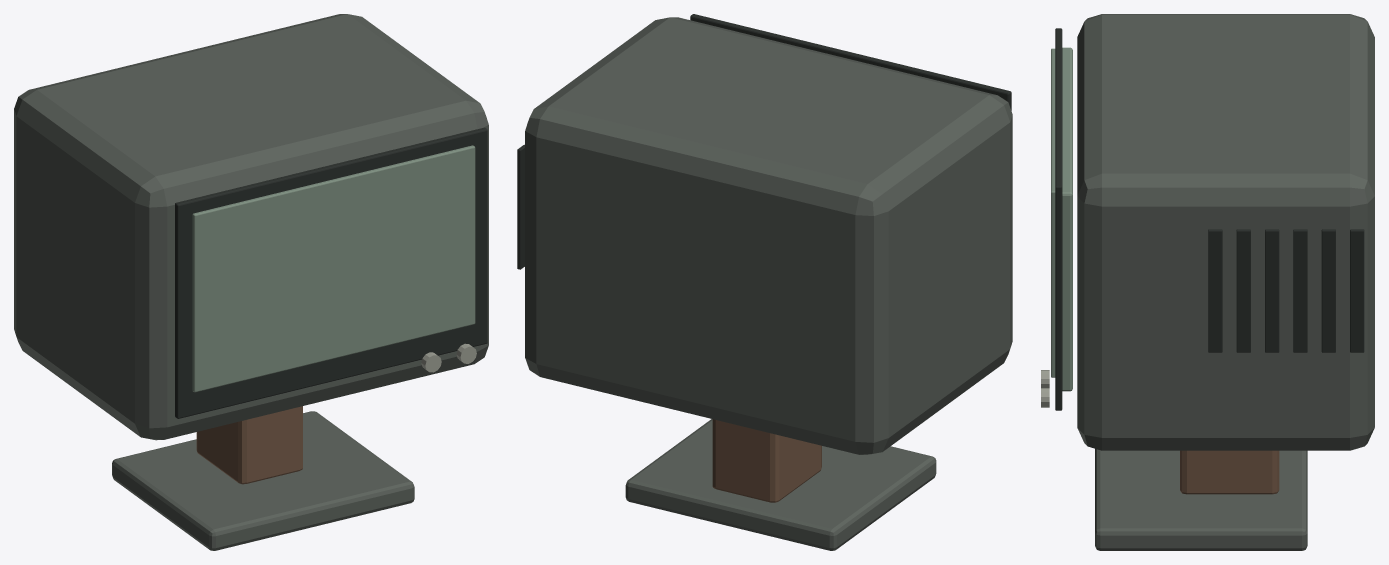
File: crt_monitor.glb
3 views of the same model, side by side, from view 1: azimuth 30°, elevation 25°; view 2: azimuth 150°, elevation 25°; view 3: azimuth 270°, elevation 25° (orthographic). The views are drawn at different scales.
Parts seen in each view (by area): view 1: crt_monitor; view 2: crt_monitor; view 3: crt_monitor.
Boxes of the visible parts, x1,y1,x2,y2 form: crt_monitor: [14, 14, 488, 550]; crt_monitor: [517, 14, 1012, 550]; crt_monitor: [1041, 14, 1374, 550].
Size of the model in its own units: 0.606 by 0.6325 by 0.471.
